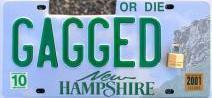placa de veiculo: (6, 2, 211, 97)
